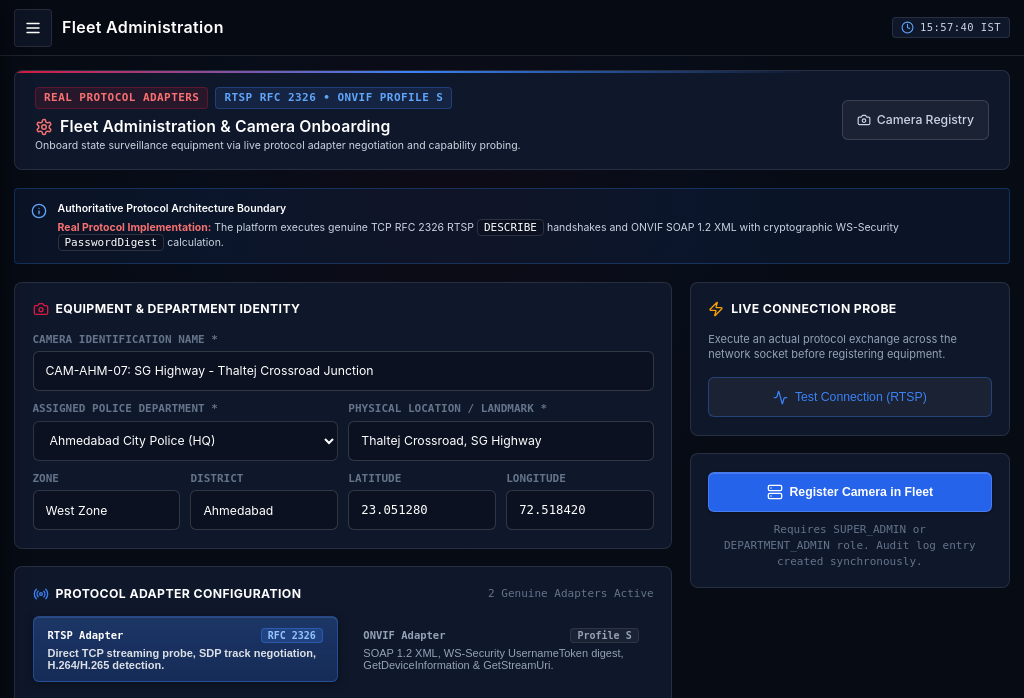
Test case: Fleet Administration & Camera Onboarding UI (Phase 4F) › displays professional duplicate endpoint alert with existing camera details and deep link
Click the button "Register Camera in Fleet".
click(850, 492)  # box [708,472,992,512]
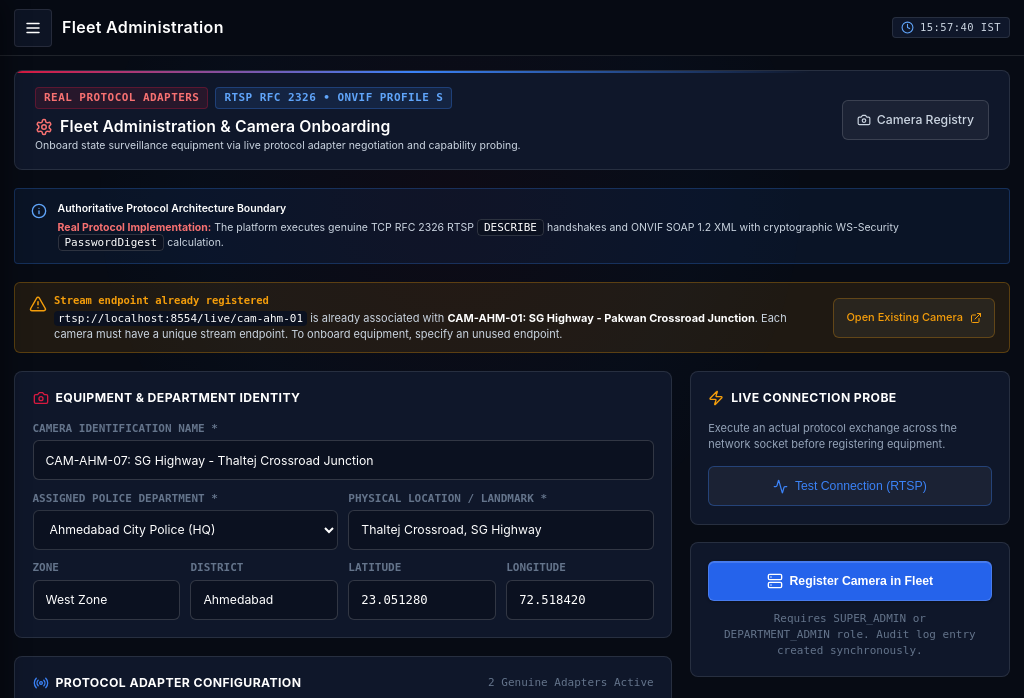
Check: the text "Stream endpoint already registered" is shown, box [54,294,269,306]
Check: the text "CAM-AHM-01: SG Highway - Pakwan Crossroad Junction" is shown, box [447,311,755,325]
Check: the link "Open Existing Camera" is shown, box [833,298,995,338]
